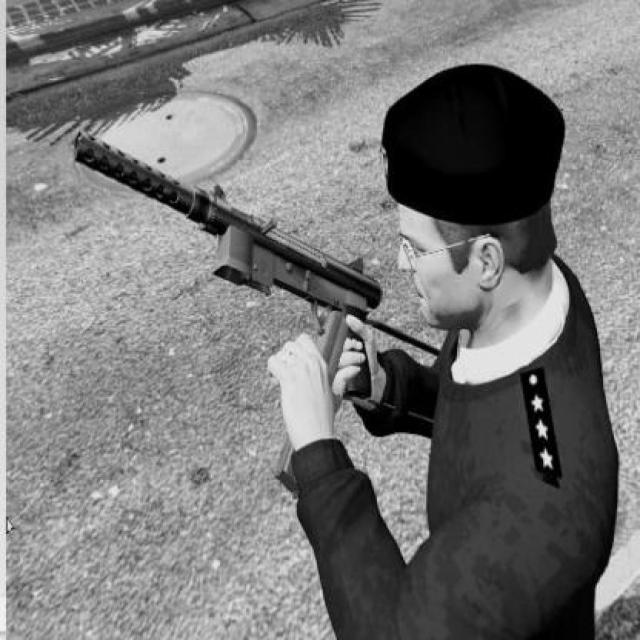weapon: (70, 133, 385, 501)
